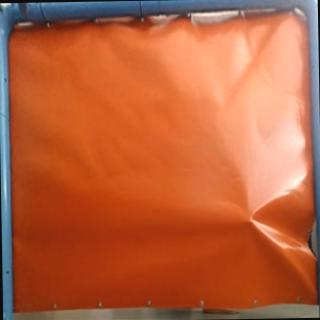Hit-hRxx: (246, 212, 261, 230)
